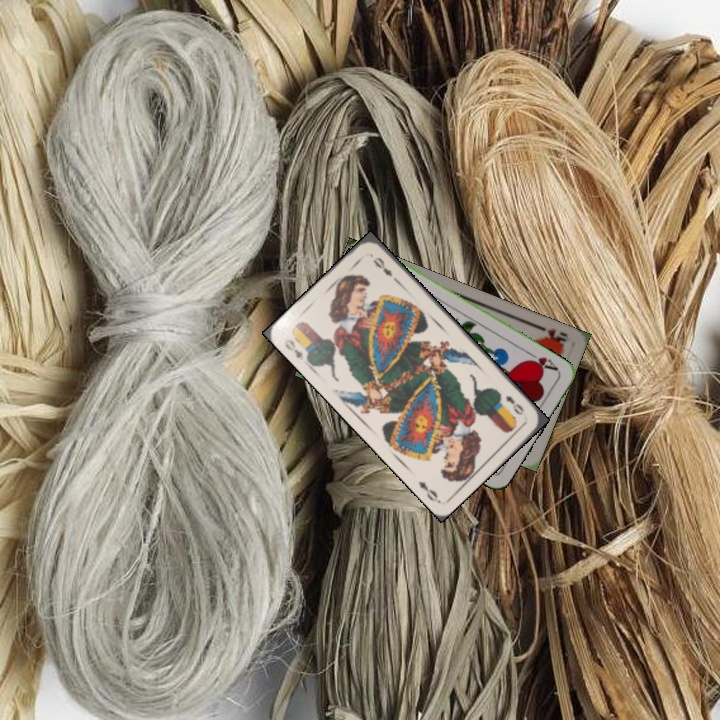EO: (280, 334, 306, 363), (501, 391, 527, 417)
HA: (523, 348, 561, 374)
HO: (532, 321, 570, 348)
